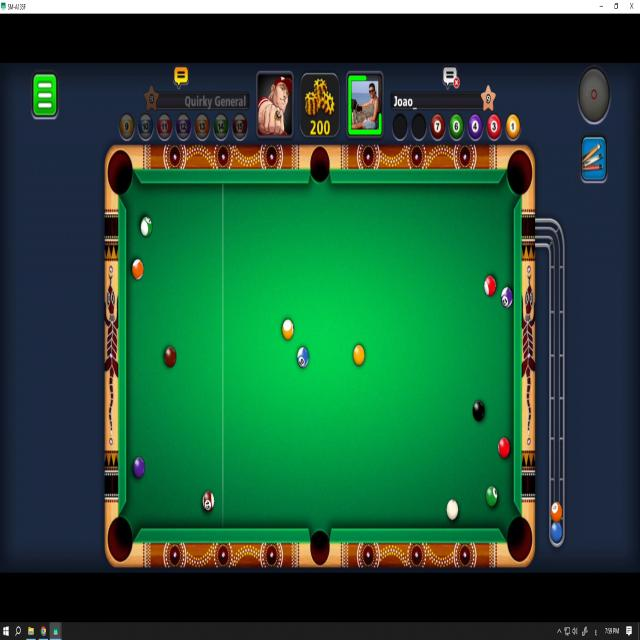object_ball: (164, 347, 176, 367), (353, 345, 364, 366), (501, 287, 512, 308), (134, 457, 145, 478), (486, 486, 497, 507), (282, 319, 293, 340), (473, 400, 484, 421), (132, 259, 143, 280), (297, 347, 308, 367), (484, 276, 495, 296), (141, 217, 152, 237), (203, 491, 214, 511), (499, 438, 509, 458)
white_cue_ball: (447, 499, 458, 520)
